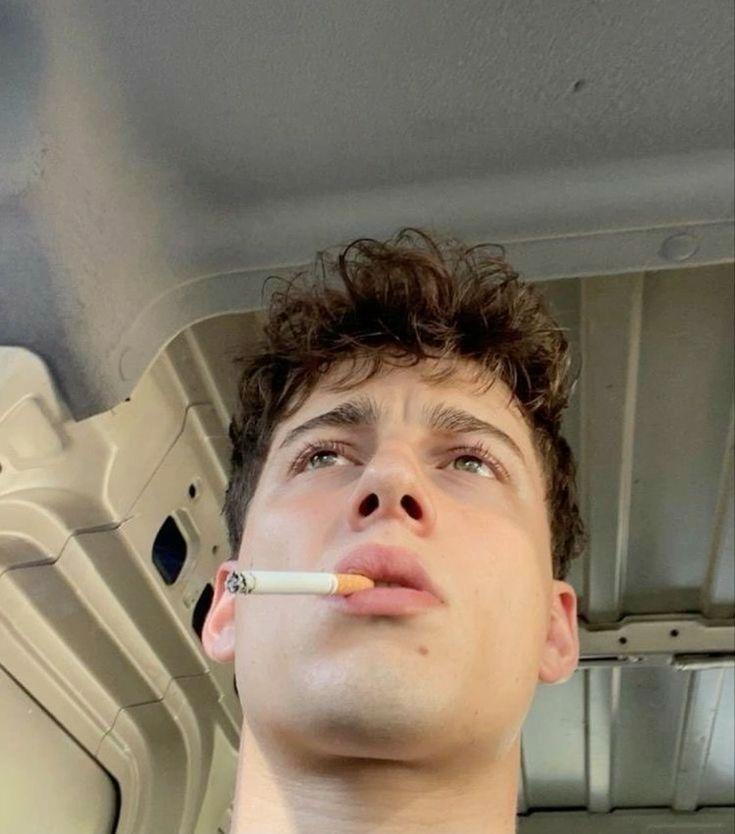cigarette: (224, 571, 374, 595)
